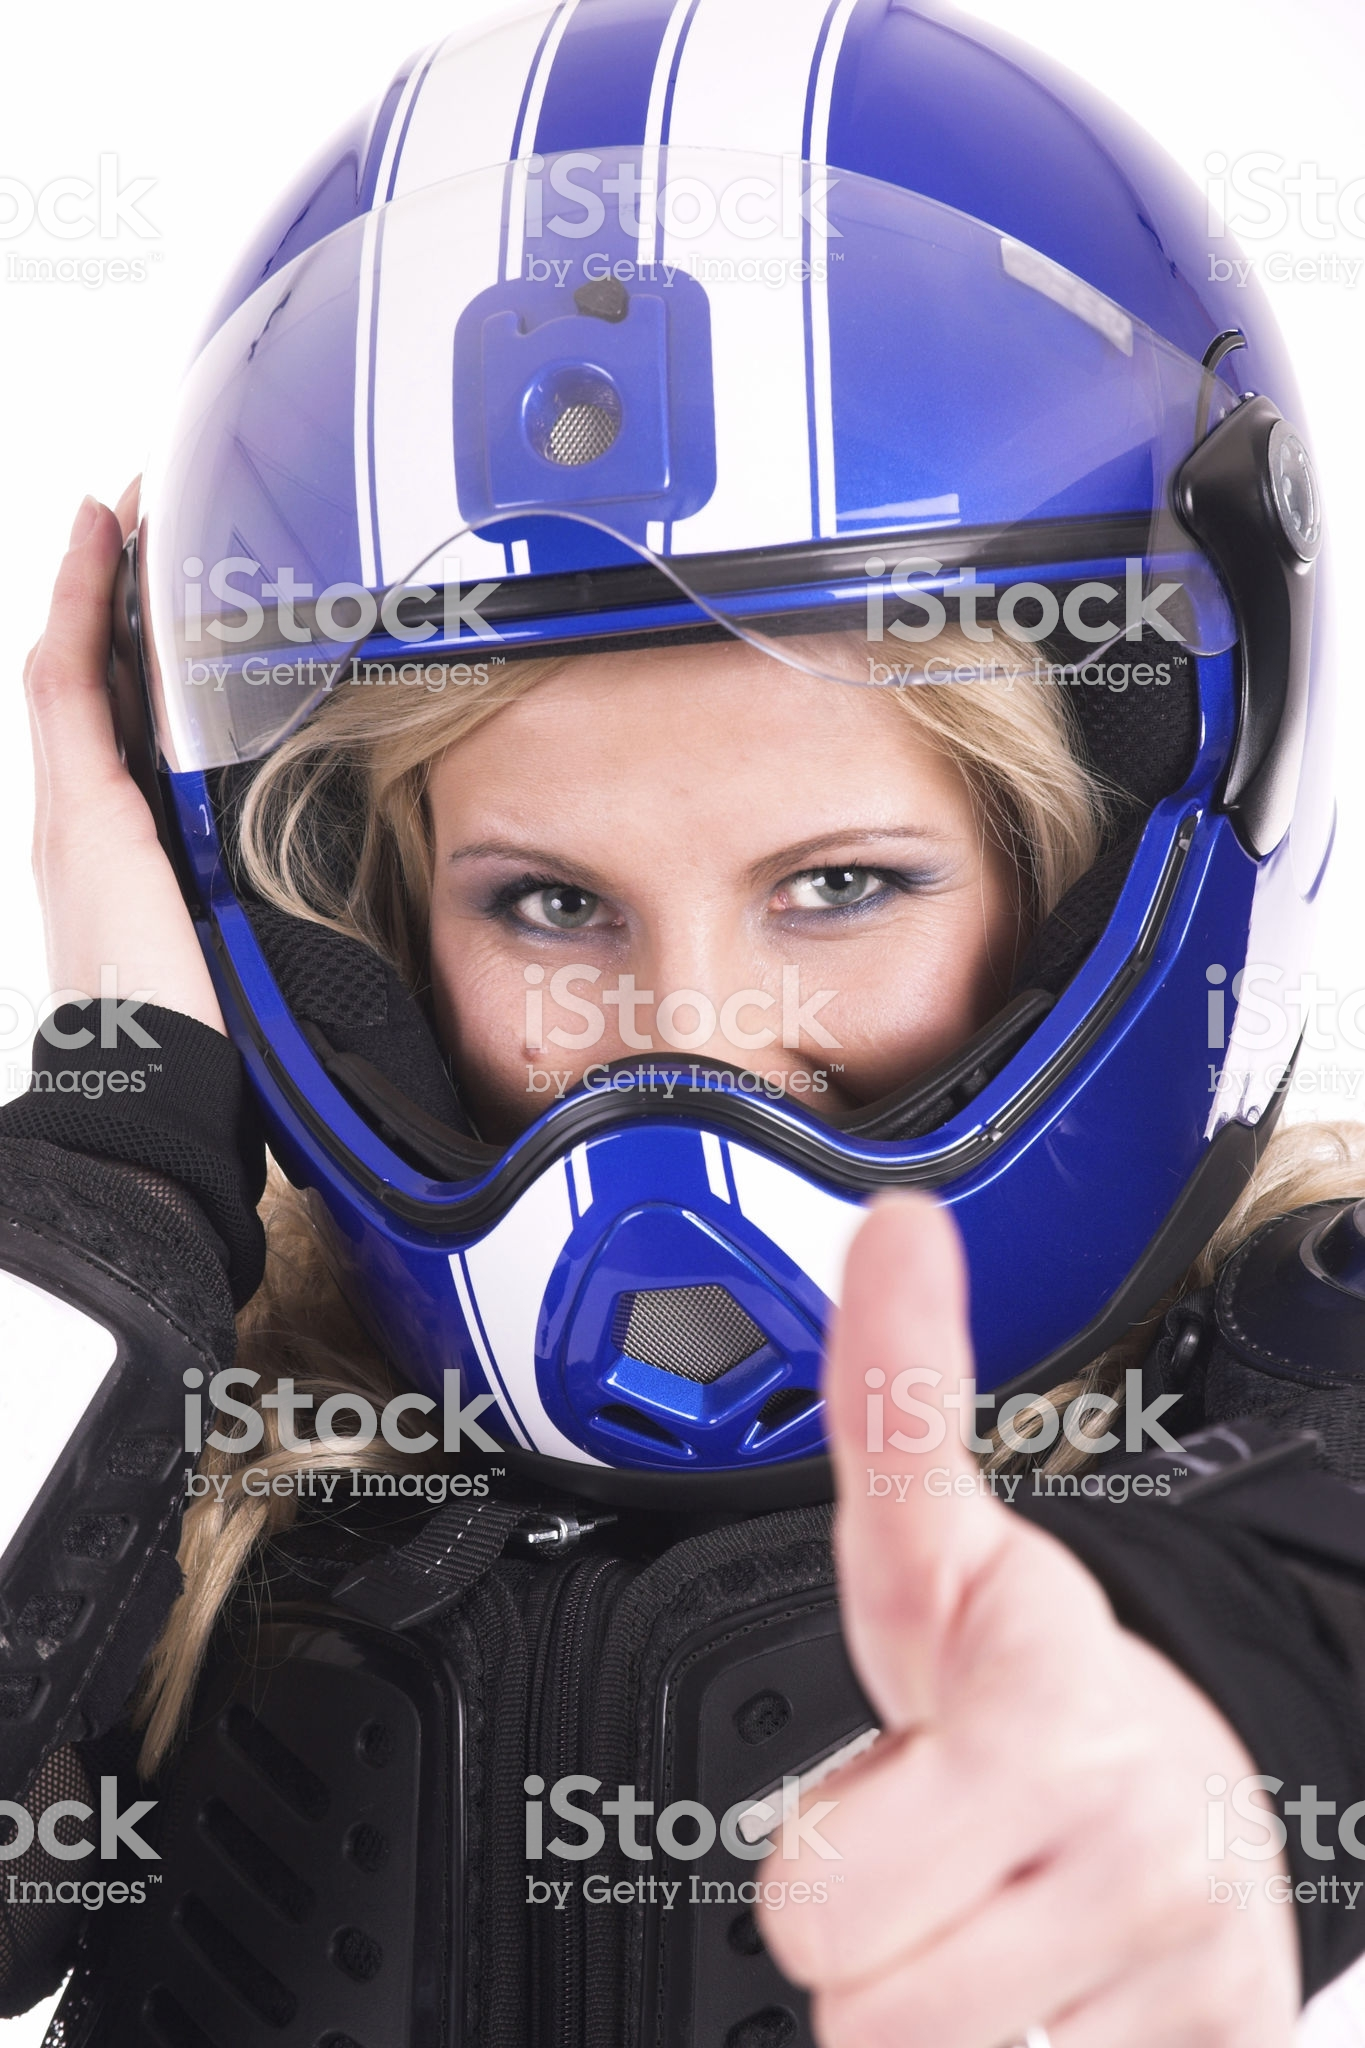helmet: (139, 41, 1295, 1419)
